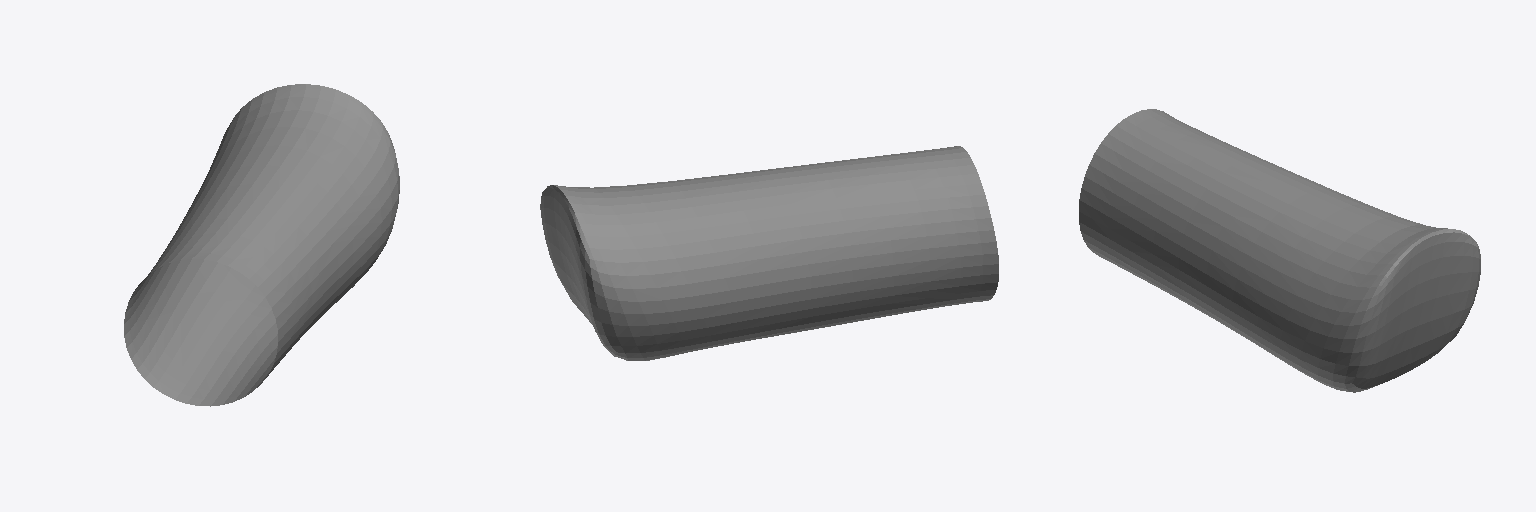
Rendered from antebrazoDer.obj.
The picture shows the model from 3 angles: view 1: azimuth 30°, elevation 25°; view 2: azimuth 150°, elevation 25°; view 3: azimuth 270°, elevation 25°; orthographic projection.
Visible parts, largest first — view 1: antebrazoDer; view 2: antebrazoDer; view 3: antebrazoDer.
Part boxes in pixels (x1,y1,x2,y2): antebrazoDer: (124, 84, 399, 406); antebrazoDer: (540, 146, 998, 360); antebrazoDer: (1079, 109, 1480, 392).
Bounding box in the file's own units: 1.1 × 0.493 × 1.05.